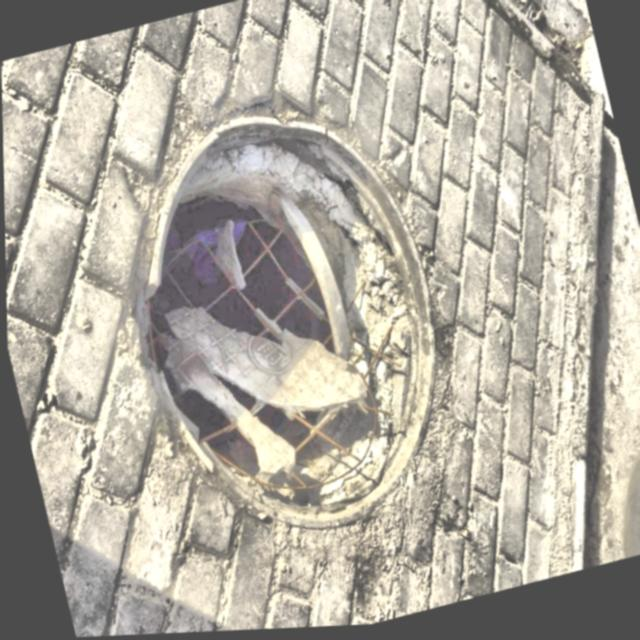Open Manhole: (130, 118, 432, 530)
